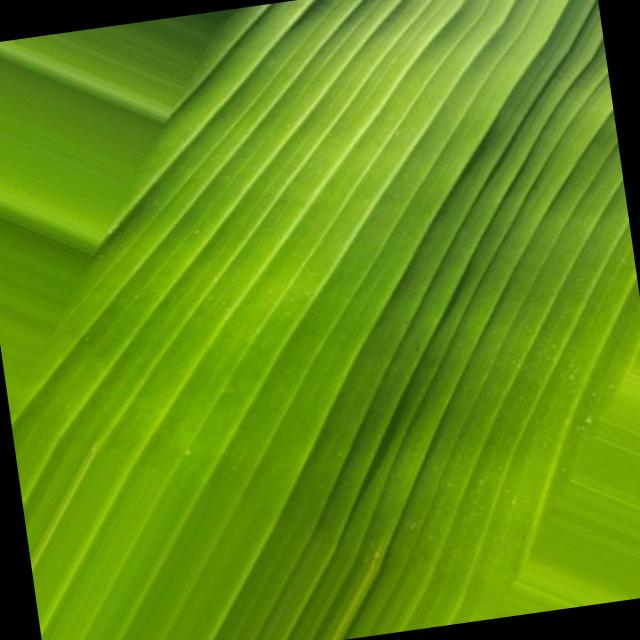Banana_Healthy: (175, 132, 570, 520)
